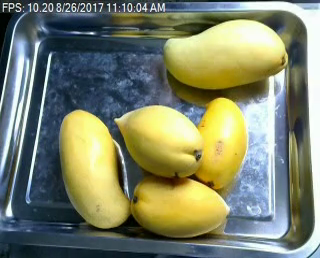Mango: (162, 16, 289, 94), (55, 105, 131, 230), (126, 173, 232, 241), (114, 102, 202, 175), (188, 95, 252, 188)
